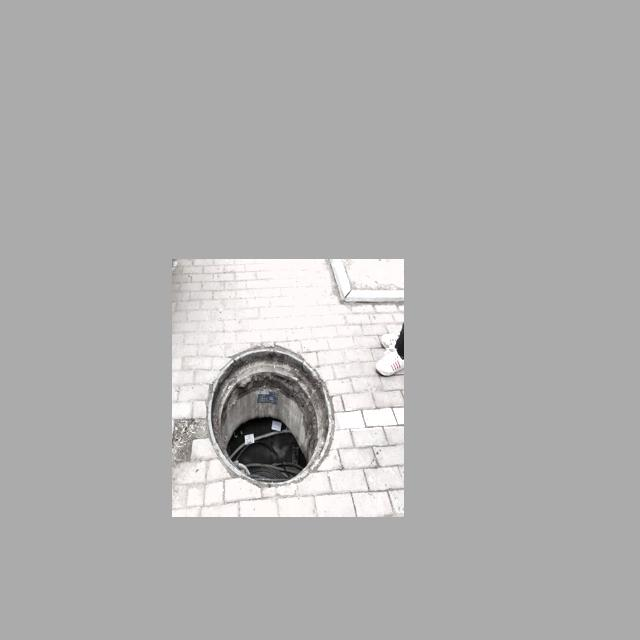lose: (203, 336, 336, 487)
